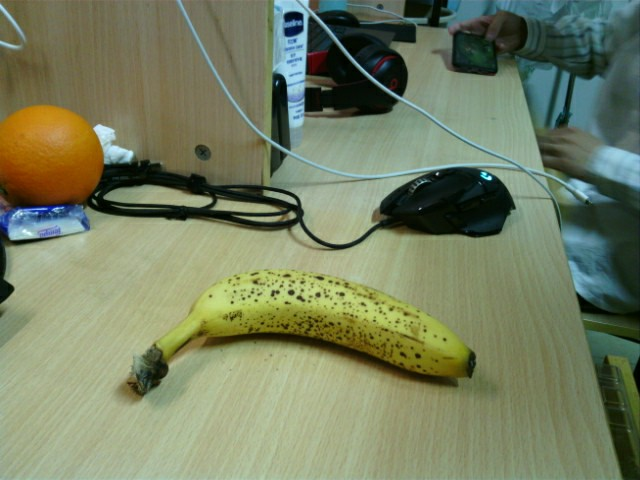normal_banana: (125, 267, 479, 411)
normal_orange: (3, 104, 105, 201)
